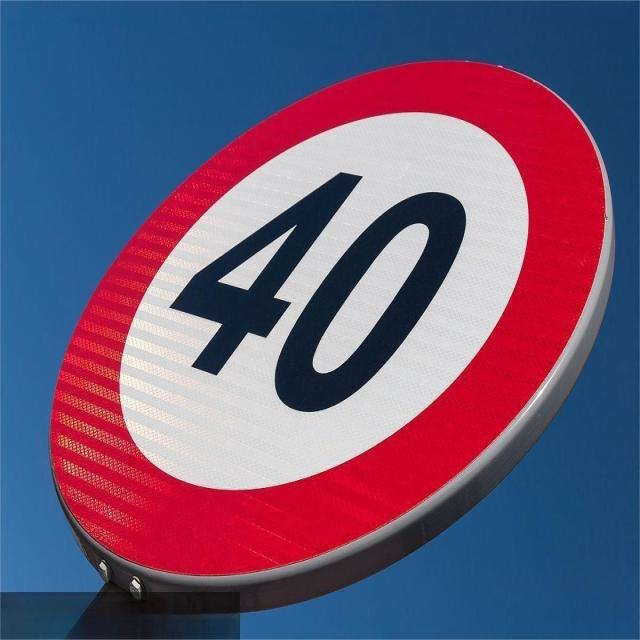speed limit 40: (51, 57, 617, 605)
